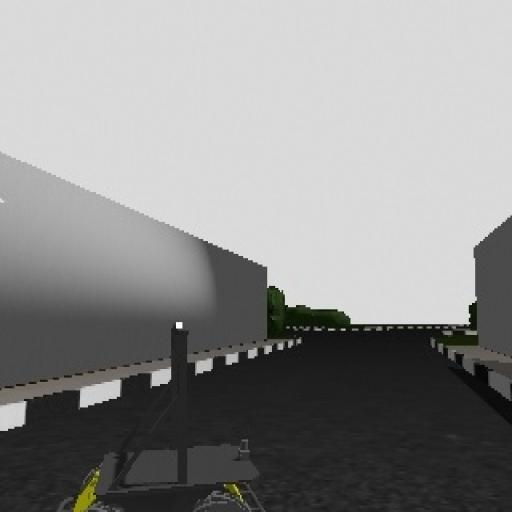huskya200: (31, 301, 292, 512)
